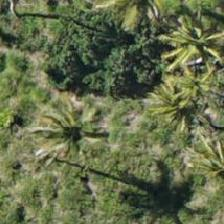coconut_tree: (19, 87, 109, 177), (140, 57, 223, 147), (156, 119, 223, 209), (148, 0, 223, 74)
